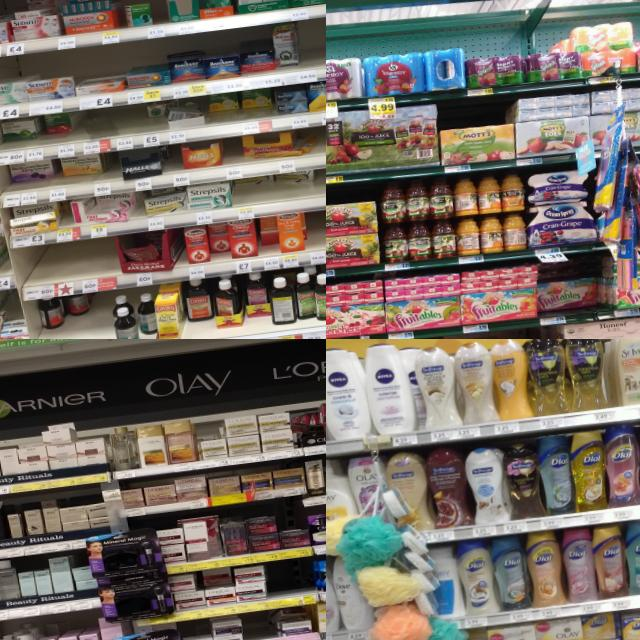100- O.O.S: (18, 243, 78, 300), (73, 238, 119, 294), (267, 557, 316, 608), (298, 19, 326, 82), (82, 106, 116, 154), (113, 106, 143, 150), (305, 206, 326, 263), (68, 312, 112, 339), (222, 136, 246, 178), (241, 611, 272, 640), (167, 143, 185, 186), (150, 0, 167, 37), (34, 328, 71, 339), (317, 164, 326, 209), (318, 124, 326, 167)
